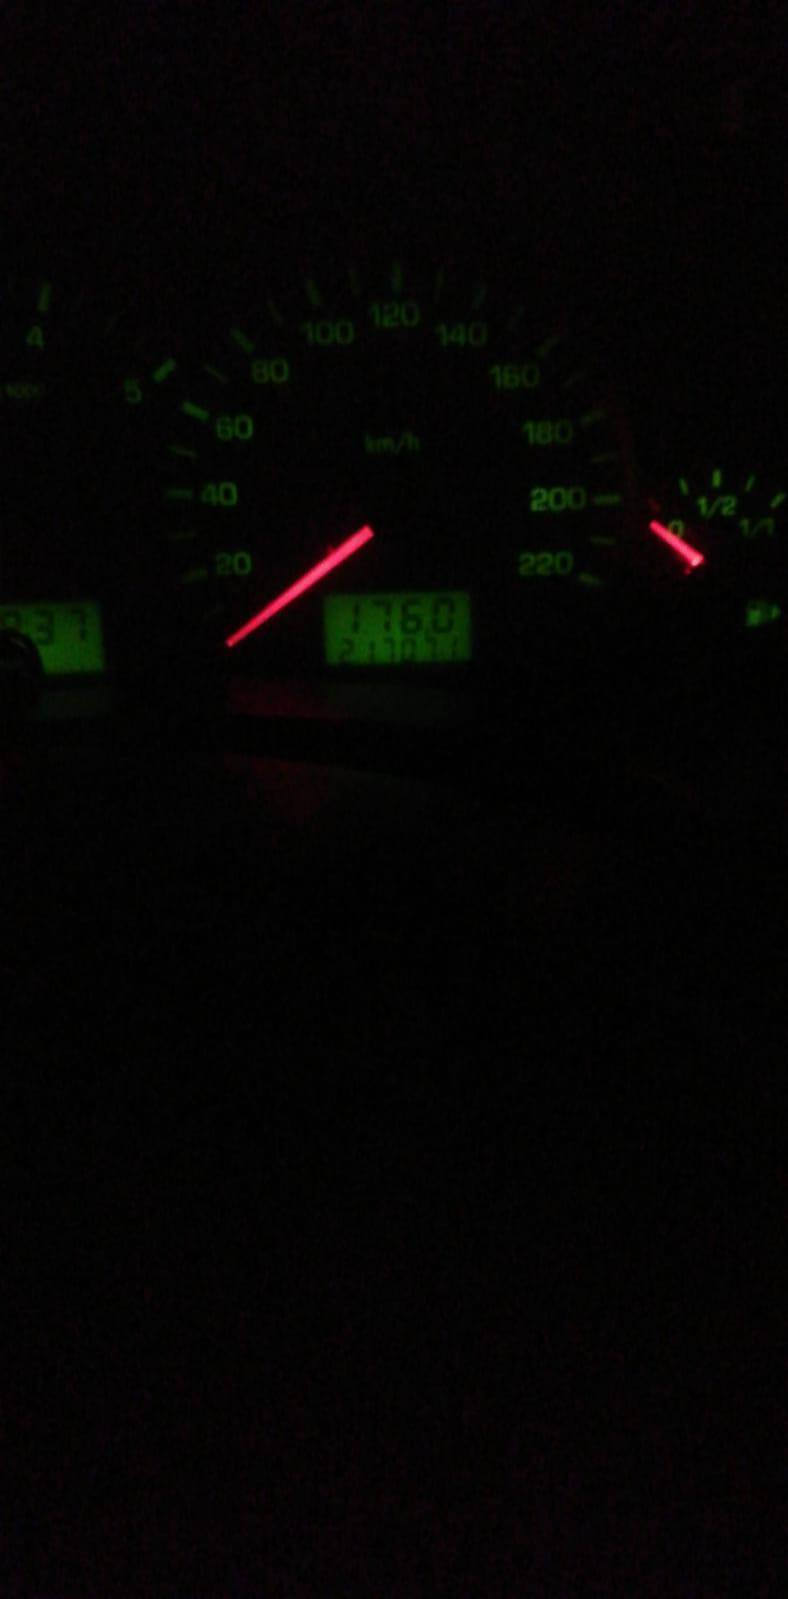0: (431, 596, 455, 633), (399, 637, 416, 662)
1: (446, 634, 460, 663), (350, 601, 360, 633), (366, 639, 376, 665)
2: (336, 637, 355, 664)
6: (399, 597, 423, 634)
7: (370, 597, 393, 632), (423, 636, 439, 664), (382, 636, 396, 664)
odometer: (319, 586, 477, 670)
